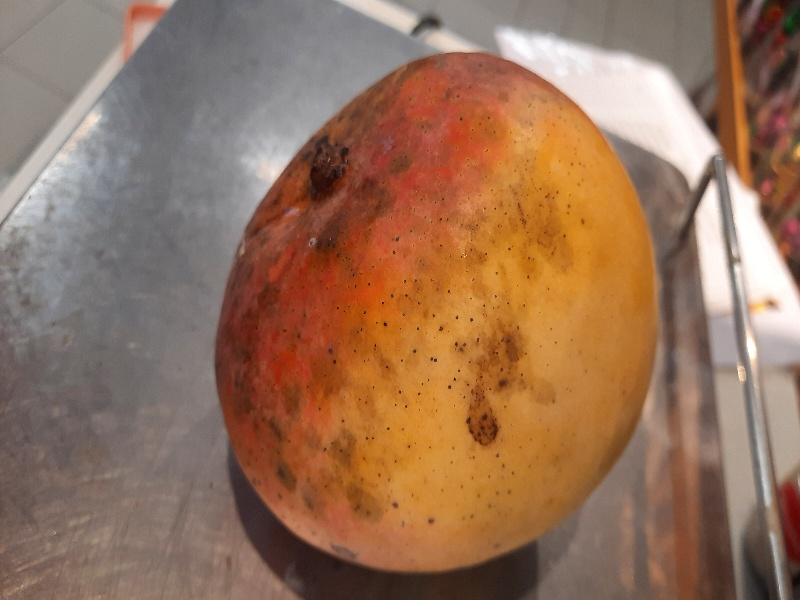fruit: (205, 52, 662, 582)
